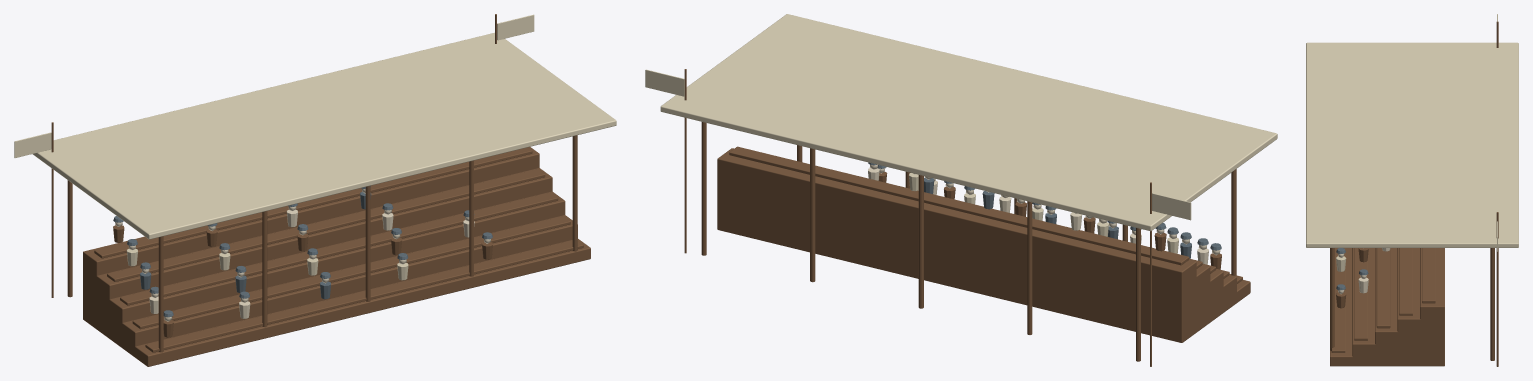
File: Prop_Race_Grandstand_01.fbx
3 views of the same model, side by side, from view 1: azimuth 30°, elevation 25°; view 2: azimuth 150°, elevation 25°; view 3: azimuth 270°, elevation 25° (orthographic). The views are drawn at different scales.
Visible parts, largest first — view 1: Grandstand_Roof, Grandstand_Step_3, Grandstand_Step_4, Grandstand_Step_2, Grandstand_Step_1, Grandstand_Step_0, Grandstand_Seat_0, Grandstand_Seat_3, Grandstand_Seat_2, Grandstand_Seat_1, Grandstand_Seat_4, Grandstand_Post_-8.4_3.6 (+7 smaller); view 2: Grandstand_Roof, Grandstand_Step_4, Grandstand_Seat_4, Grandstand_Step_3, Grandstand_Post_0_3.6, Grandstand_Post_4.2_3.6, Grandstand_Post_8.4_3.6, Grandstand_Post_-4.2_3.6, Grandstand_Flag_R, Grandstand_Flag_L, Grandstand_Step_2, Grandstand_Post_-8.4_3.6 (+1 smaller); view 3: Grandstand_Roof, Grandstand_Step_4, Grandstand_Step_3, Grandstand_Step_2, Grandstand_Step_1, Grandstand_Seat_2, Grandstand_Step_0, Grandstand_Seat_1, Grandstand_Seat_3, Grandstand_Seat_0, Grandstand_Seat_4, Grandstand_Post_8.4_3.6 (+2 smaller).
Part boxes in pixels (x1=…): Grandstand_Roof: x1=32, y1=32, x2=616, y2=239; Grandstand_Step_3: x1=95, y1=168, x2=552, y2=337; Grandstand_Step_4: x1=83, y1=147, x2=539, y2=328; Grandstand_Step_2: x1=108, y1=191, x2=565, y2=347; Grandstand_Step_1: x1=121, y1=215, x2=577, y2=356; Grandstand_Step_0: x1=134, y1=239, x2=590, y2=366; Grandstand_Seat_0: x1=145, y1=240, x2=583, y2=352; Grandstand_Seat_3: x1=107, y1=169, x2=545, y2=281; Grandstand_Seat_2: x1=120, y1=192, x2=558, y2=305; Grandstand_Seat_1: x1=132, y1=216, x2=570, y2=329; Grandstand_Seat_4: x1=94, y1=147, x2=532, y2=258; Grandstand_Post_-8.4_3.6: x1=67, y1=180, x2=72, y2=297; Grandstand_Roof: x1=660, y1=14, x2=1277, y2=231; Grandstand_Step_4: x1=717, y1=148, x2=1196, y2=342; Grandstand_Seat_4: x1=729, y1=146, x2=1189, y2=265; Grandstand_Step_3: x1=1196, y1=265, x2=1210, y2=332; Grandstand_Post_0_3.6: x1=918, y1=175, x2=923, y2=308; Grandstand_Post_4.2_3.6: x1=810, y1=148, x2=815, y2=282; Grandstand_Post_8.4_3.6: x1=701, y1=122, x2=706, y2=255; Grandstand_Post_-4.2_3.6: x1=1027, y1=201, x2=1032, y2=334; Grandstand_Flag_R: x1=645, y1=69, x2=684, y2=96; Grandstand_Flag_L: x1=1152, y1=193, x2=1191, y2=220; Grandstand_Step_2: x1=1209, y1=269, x2=1223, y2=322; Grandstand_Post_-8.4_3.6: x1=1136, y1=228, x2=1140, y2=361; Grandstand_Roof: x1=1306, y1=42, x2=1518, y2=247; Grandstand_Step_4: x1=1420, y1=248, x2=1444, y2=366; Grandstand_Step_3: x1=1397, y1=248, x2=1421, y2=366; Grandstand_Step_2: x1=1375, y1=248, x2=1398, y2=366; Grandstand_Step_1: x1=1352, y1=248, x2=1376, y2=366; Grandstand_Seat_2: x1=1376, y1=248, x2=1390, y2=328; Grandstand_Step_0: x1=1330, y1=248, x2=1353, y2=366; Grandstand_Seat_1: x1=1354, y1=248, x2=1367, y2=340; Grandstand_Seat_3: x1=1399, y1=248, x2=1412, y2=315; Grandstand_Seat_0: x1=1331, y1=248, x2=1345, y2=352; Grandstand_Seat_4: x1=1422, y1=248, x2=1435, y2=303; Grandstand_Post_8.4_3.6: x1=1490, y1=248, x2=1494, y2=360.
Bounding box in the file's own units: 2110 × 680 × 850.
